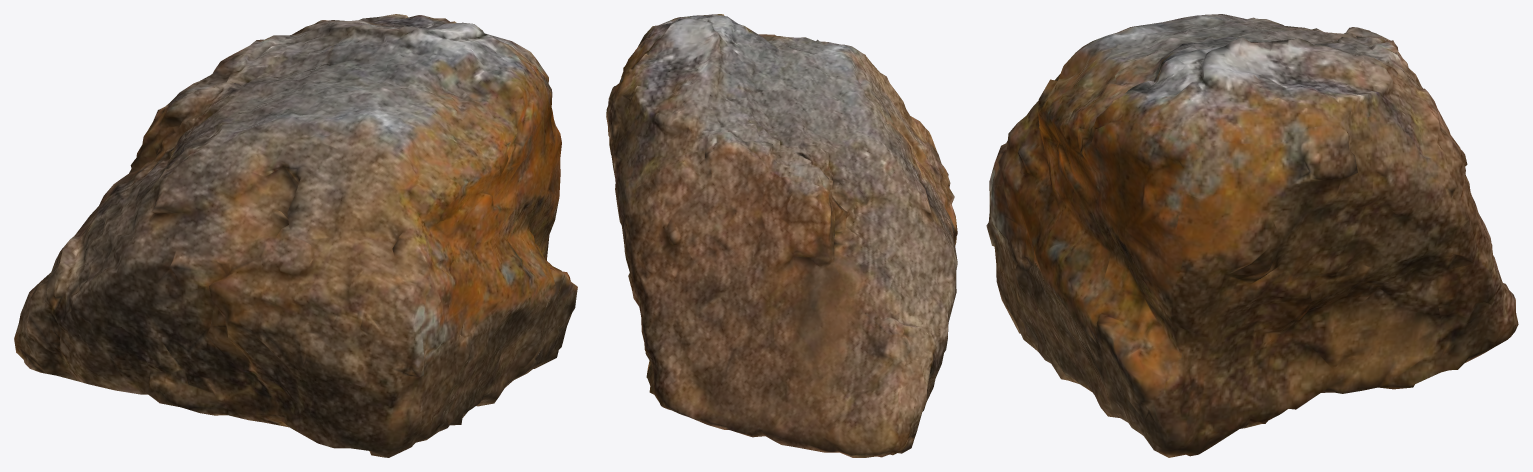
File: rocher_granite_lod0.glb
3 views of the same model, side by side, from view 1: azimuth 30°, elevation 25°; view 2: azimuth 150°, elevation 25°; view 3: azimuth 270°, elevation 25° (orthographic). The views are drawn at different scales.
Visible parts, largest first — view 1: boulder_04; view 2: boulder_04; view 3: boulder_04.
Boxes of the visible parts, <box> form: boulder_04: <box>14,14,577,457</box>; boulder_04: <box>606,14,957,457</box>; boulder_04: <box>986,14,1518,457</box>.
Bounding box in the file's own units: 2.52 × 1.89 × 2.49.
Materials: 1 (1 with a texture image).
